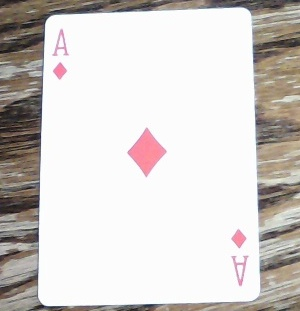card: (39, 5, 261, 306)
